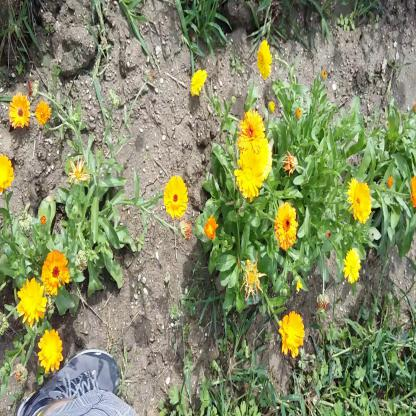marigold: (236, 136, 269, 198), (15, 280, 44, 325), (273, 200, 298, 250), (41, 252, 68, 294), (249, 133, 272, 180), (164, 174, 188, 218), (239, 108, 264, 149), (280, 312, 305, 352), (38, 329, 60, 372), (347, 178, 370, 219), (256, 37, 272, 80), (9, 94, 27, 128), (344, 250, 361, 283), (347, 173, 363, 208), (190, 68, 207, 96), (34, 98, 51, 123), (0, 154, 11, 189)
